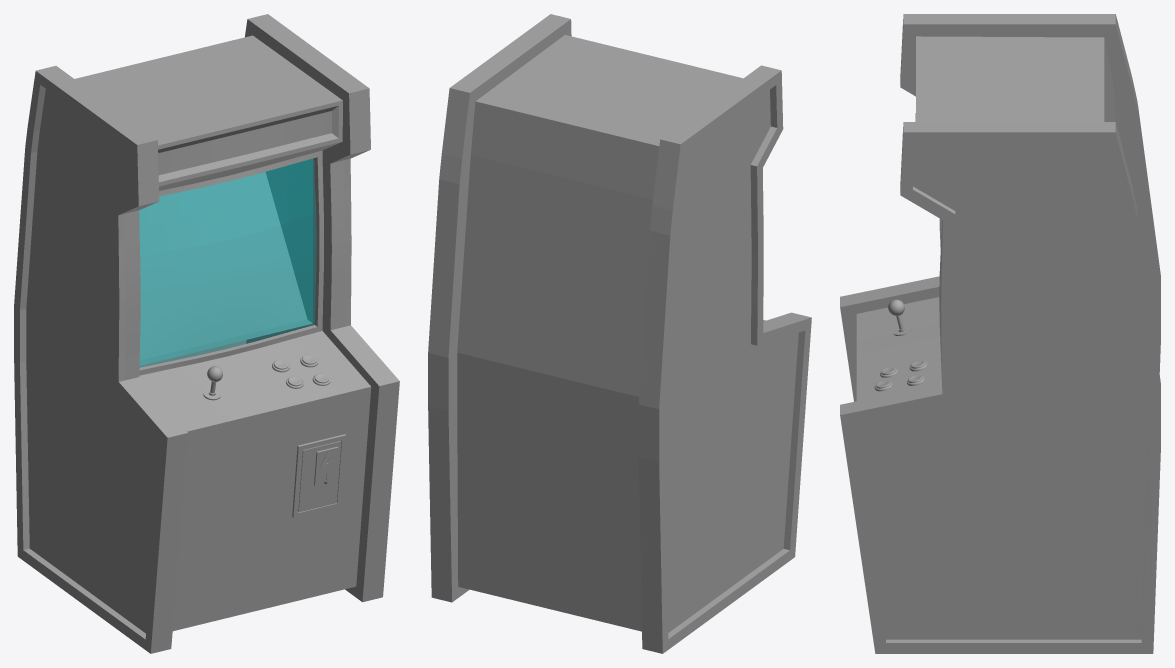
File: ski game.fbx
The picture shows the model from 3 angles, left to right: view 1: azimuth 30°, elevation 25°; view 2: azimuth 150°, elevation 25°; view 3: azimuth 270°, elevation 25°; orthographic projection. The views are drawn at different scales.
Parts seen in each view (by area): view 1: pCube3, pCube5; view 2: pCube3; view 3: pCube3.
Boxes of the visible parts, bbox=[...] form: pCube3: bbox=[14, 14, 399, 653]; pCube5: bbox=[292, 434, 346, 517]; pCube3: bbox=[428, 14, 811, 653]; pCube3: bbox=[840, 14, 1160, 653].
Size of the model in its own units: 1.12 by 2.29 by 1.28.
